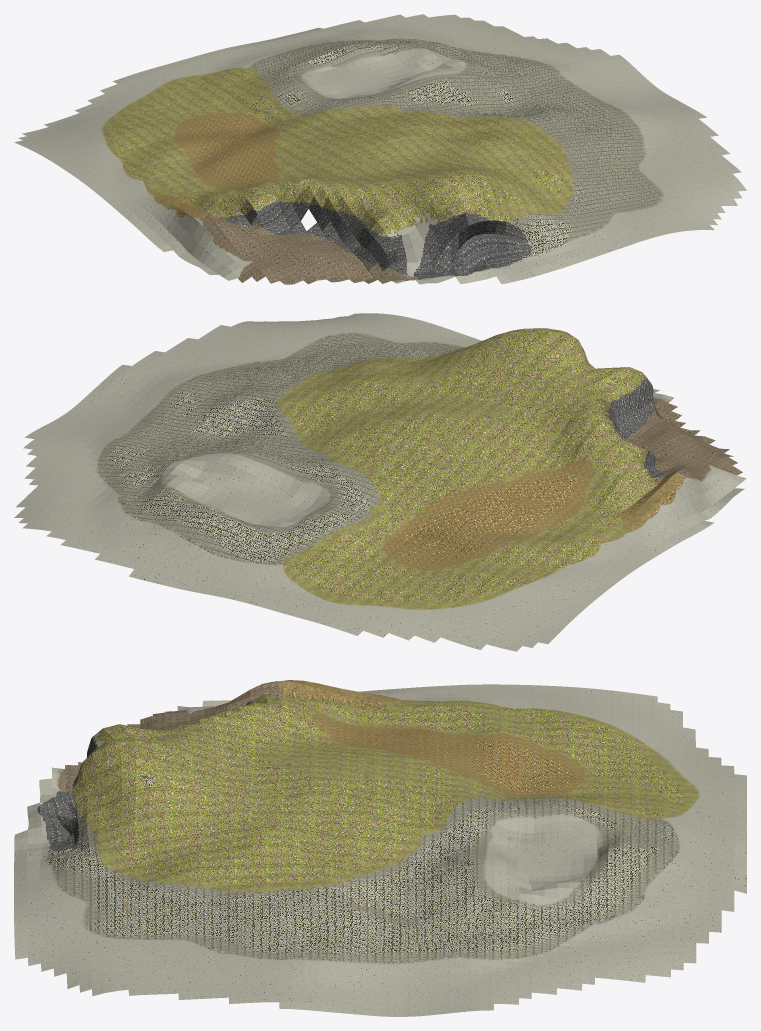
File: testisland2.glb
The picture shows the model from 3 angles, top to bottom: view 1: azimuth 30°, elevation 25°; view 2: azimuth 150°, elevation 25°; view 3: azimuth 270°, elevation 25°; orthographic projection. The views are drawn at different scales.
Visible parts, largest first — view 1: islandTrim; view 2: islandTrim; view 3: islandTrim.
Part boxes in pixels (<box>): islandTrim: <box>14,14,746,284</box>; islandTrim: <box>14,313,746,651</box>; islandTrim: <box>14,680,746,1016</box>.
Size of the model in its own units: 398 by 51.14 by 384.
1 material, 1 textured.
